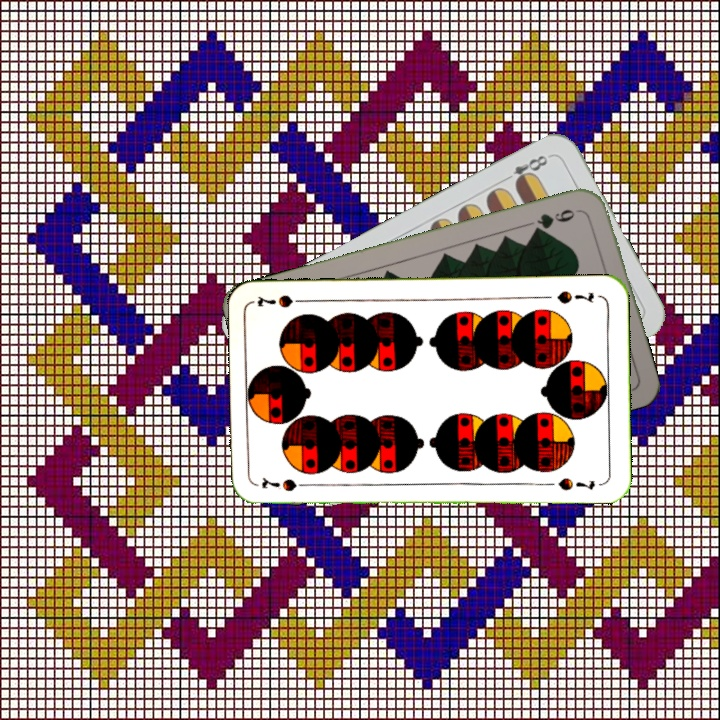E8: (499, 151, 551, 189)
G9: (528, 205, 578, 236)
S7: (258, 474, 315, 494), (553, 286, 596, 306)
